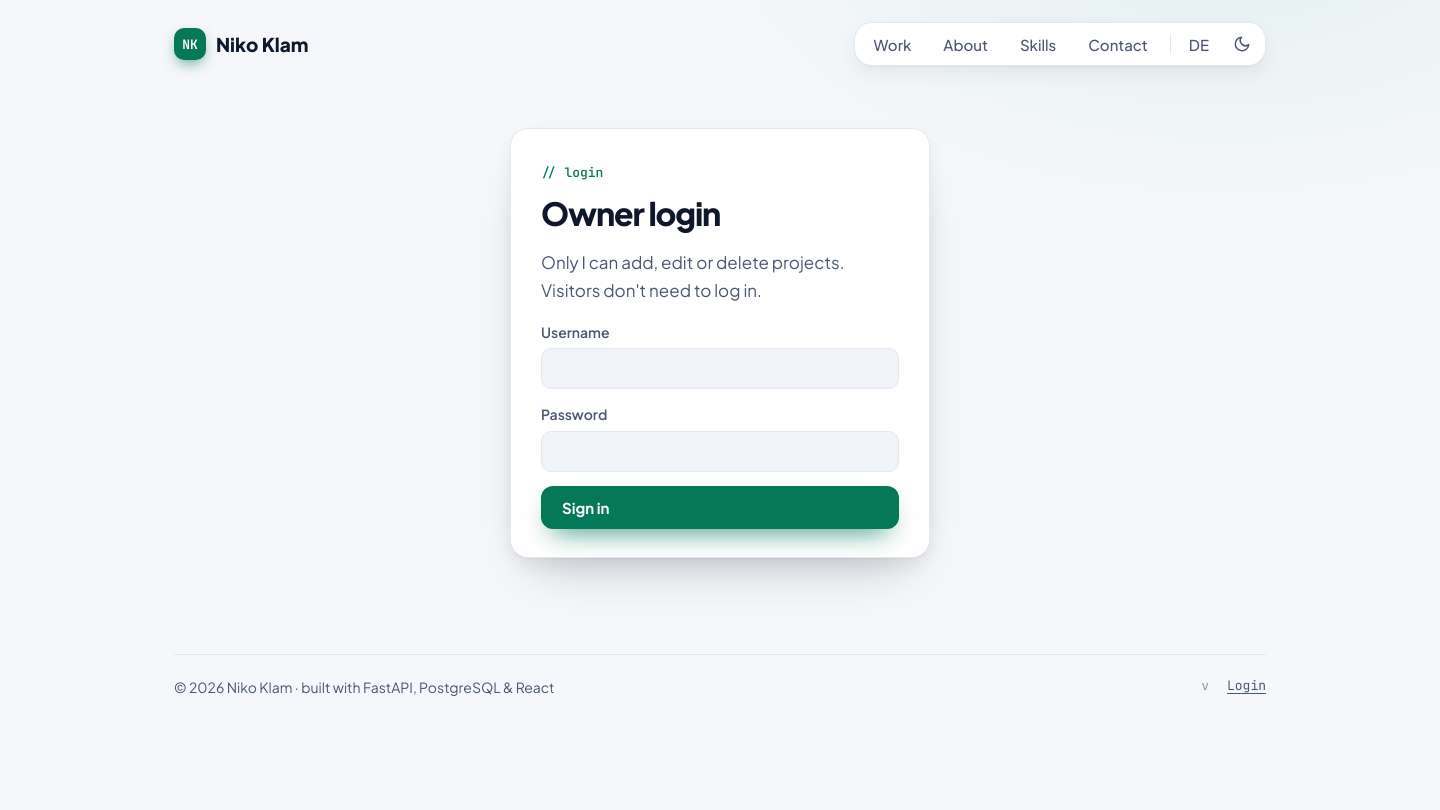
Test: login form › shows its own text for a wrong password
In the field labelled "Username": (720, 369) [541, 348, 899, 389], type "admin"
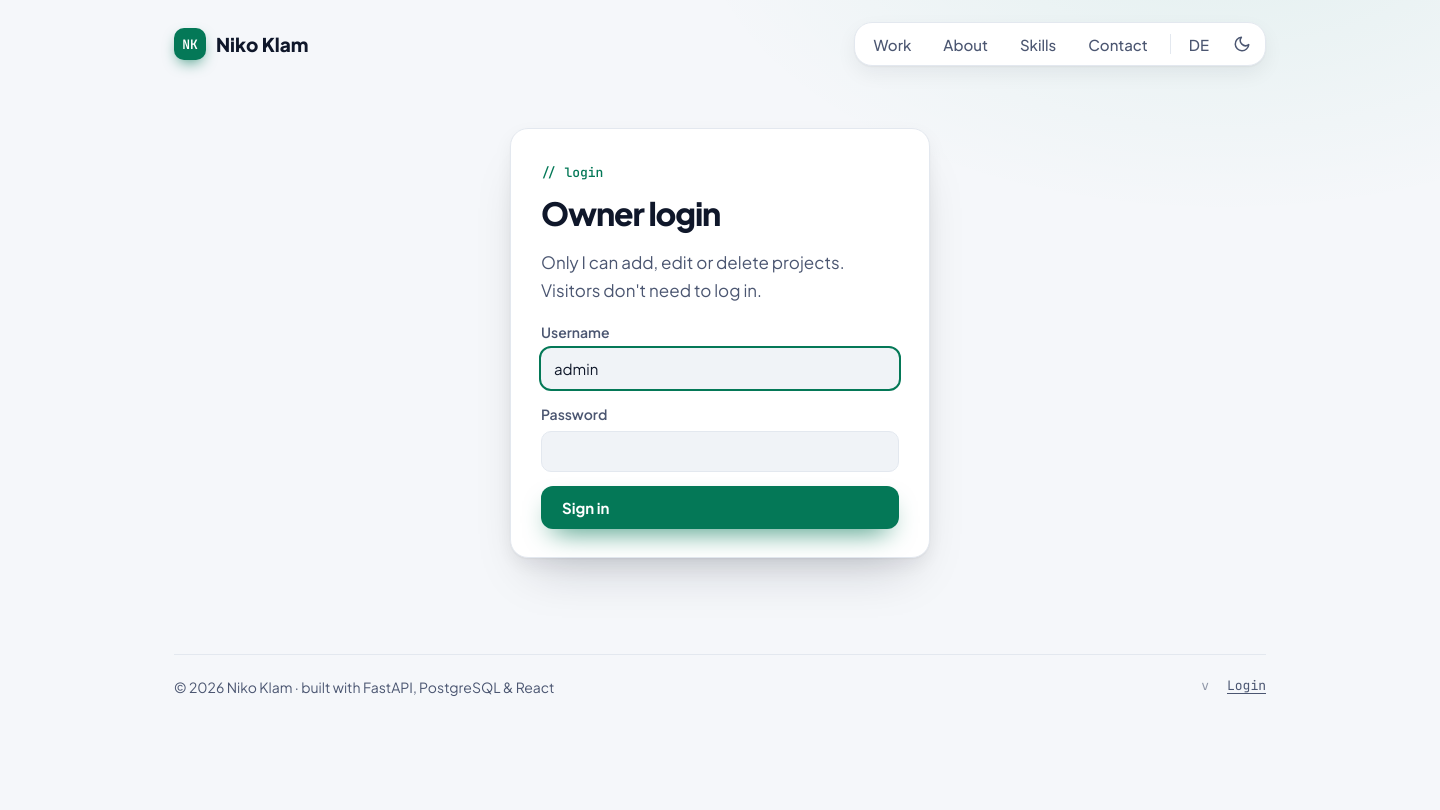
In the password field labelled "Password": (720, 451) [541, 430, 899, 472], type "wrong"
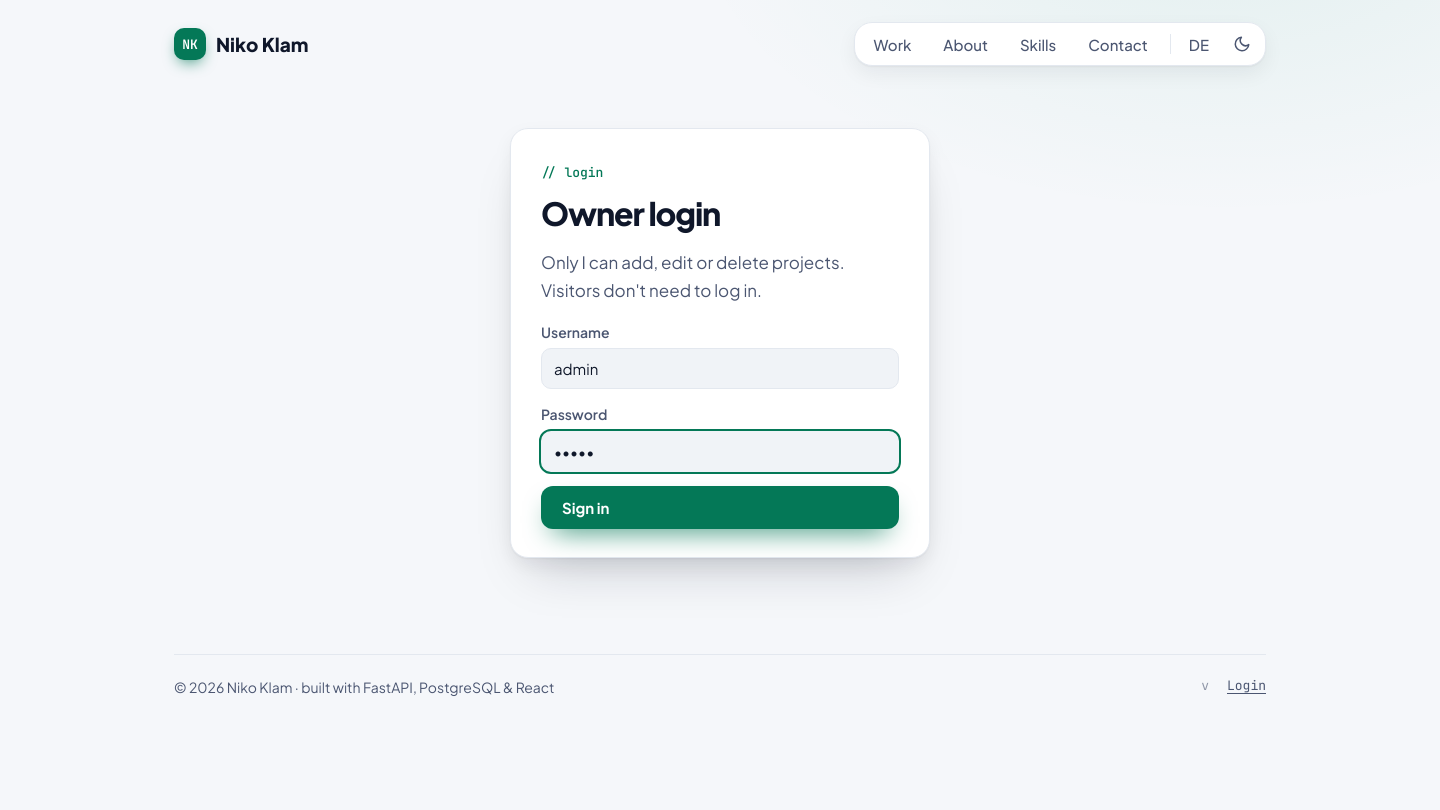
Click the button "Sign in": (586, 507) [541, 486, 899, 528]
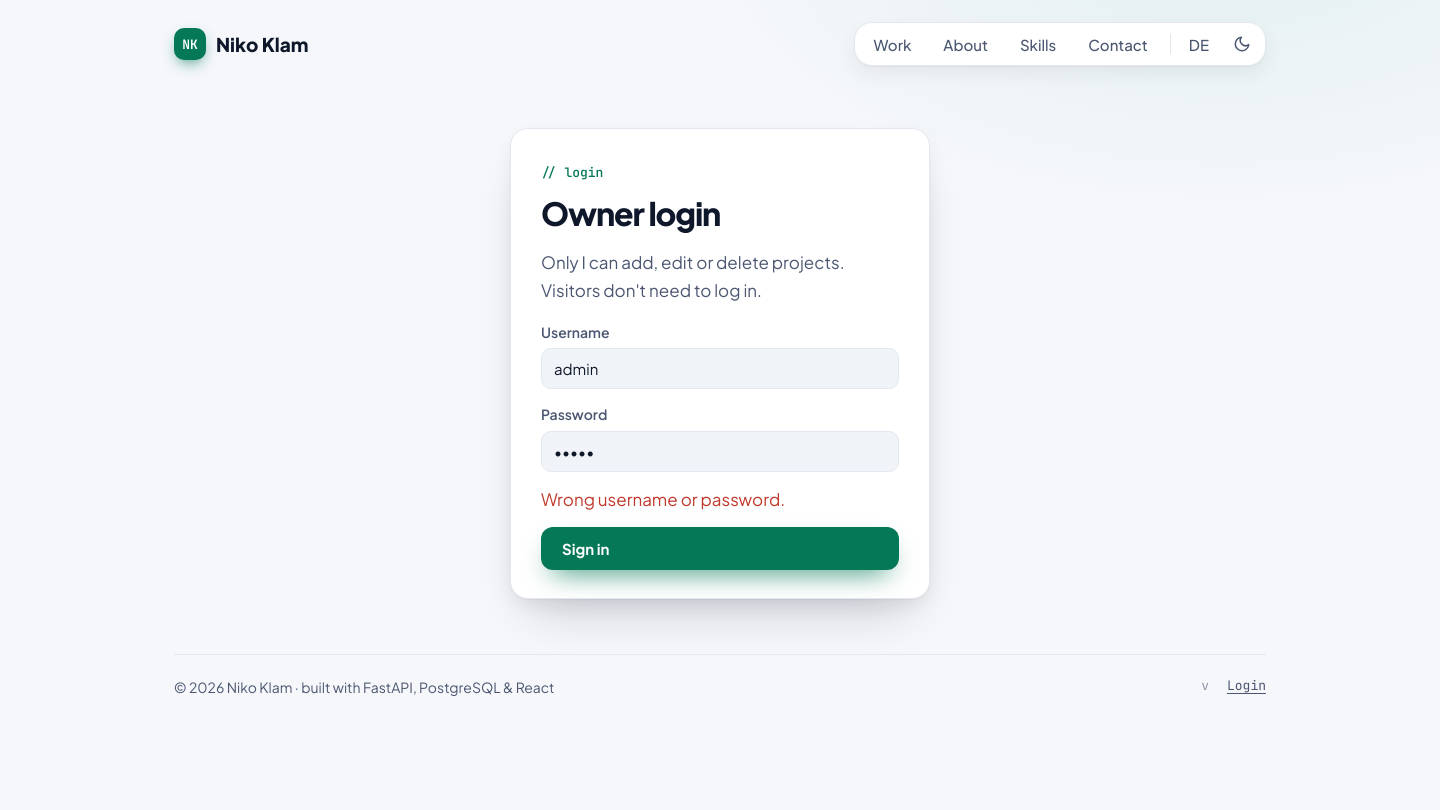
Now the message reads "Wrong username or password.", box [541, 488, 785, 510]
